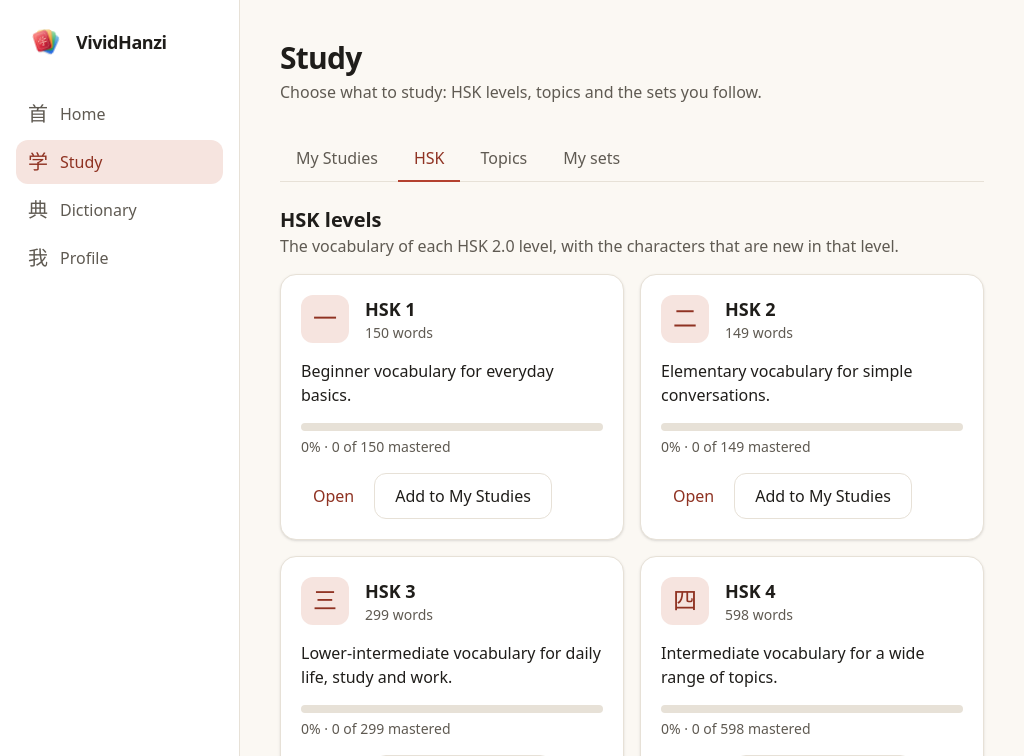
it: Study: HSK and topic sets › adding a set shows it in My Studies and removing it takes it out, without losing progress
This screenshot has width=1024, height=756.
Click the button with aria-label "Add HSK 2 to My Studies" at (823, 496), box [734,473,912,519]
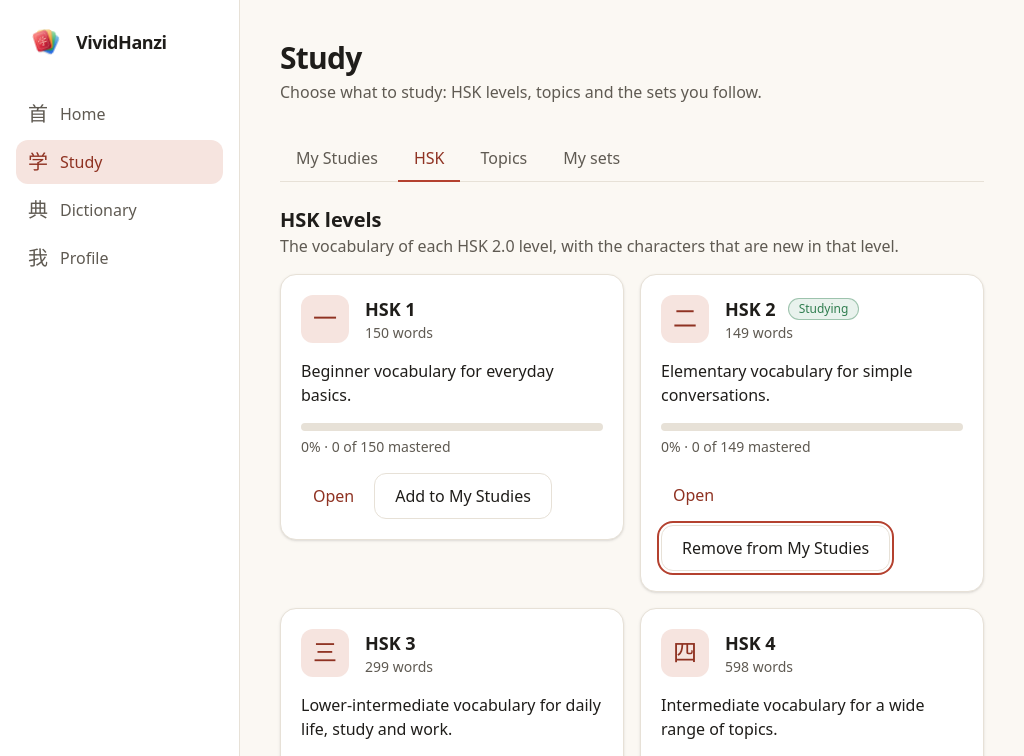
Check: the button with aria-label "Remove HSK 2 from My Studies" is shown, box [661,525,890,571]
Click the link "My Studies" at (337, 158), box [296,147,378,169]
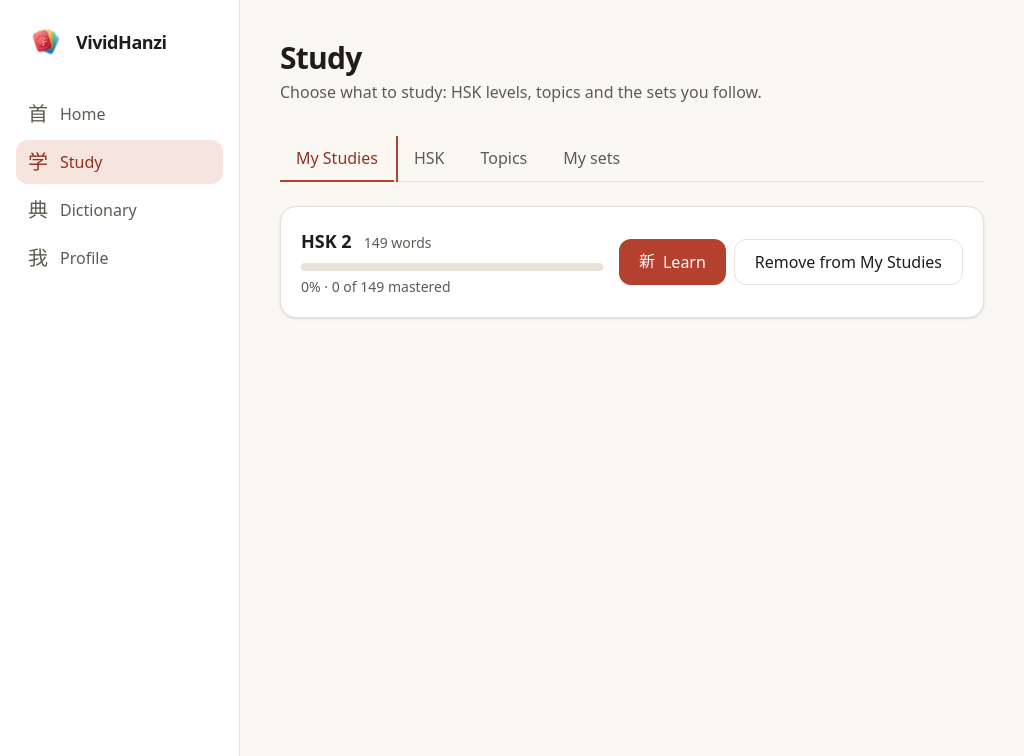
Check: the link "HSK 2" is shown, box [301,229,352,253]
Click the button with aria-label "Remove HSK 2 from My Studies" at (848, 262), box [734,239,963,285]
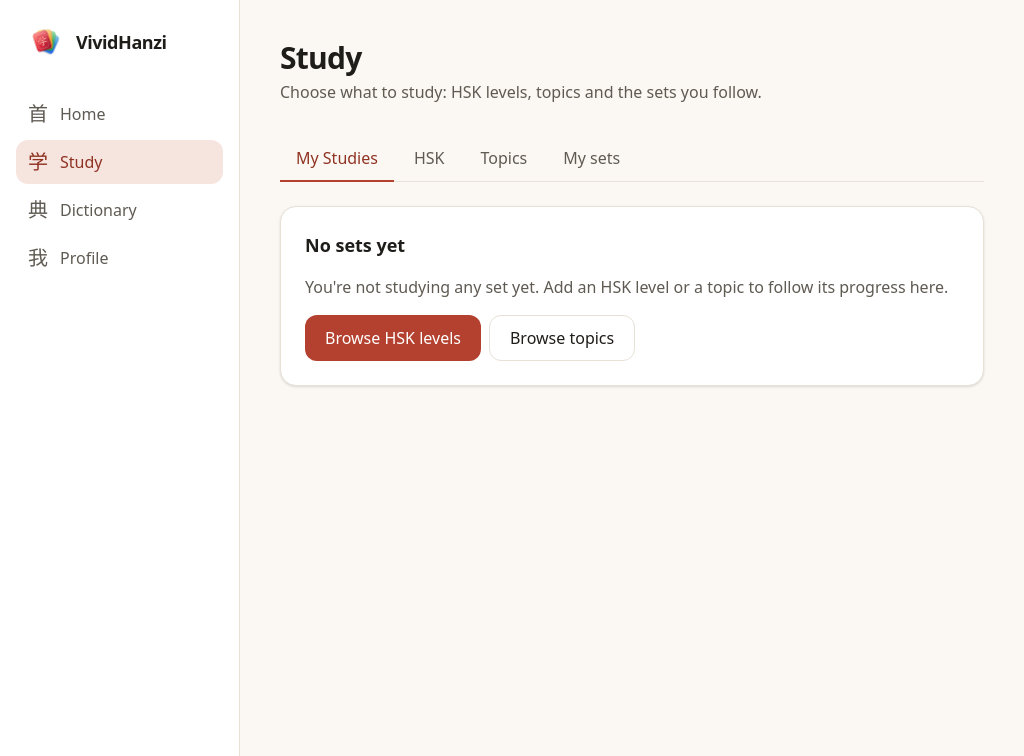
Check: the heading "No sets yet" is shown, box [305,231,405,259]
